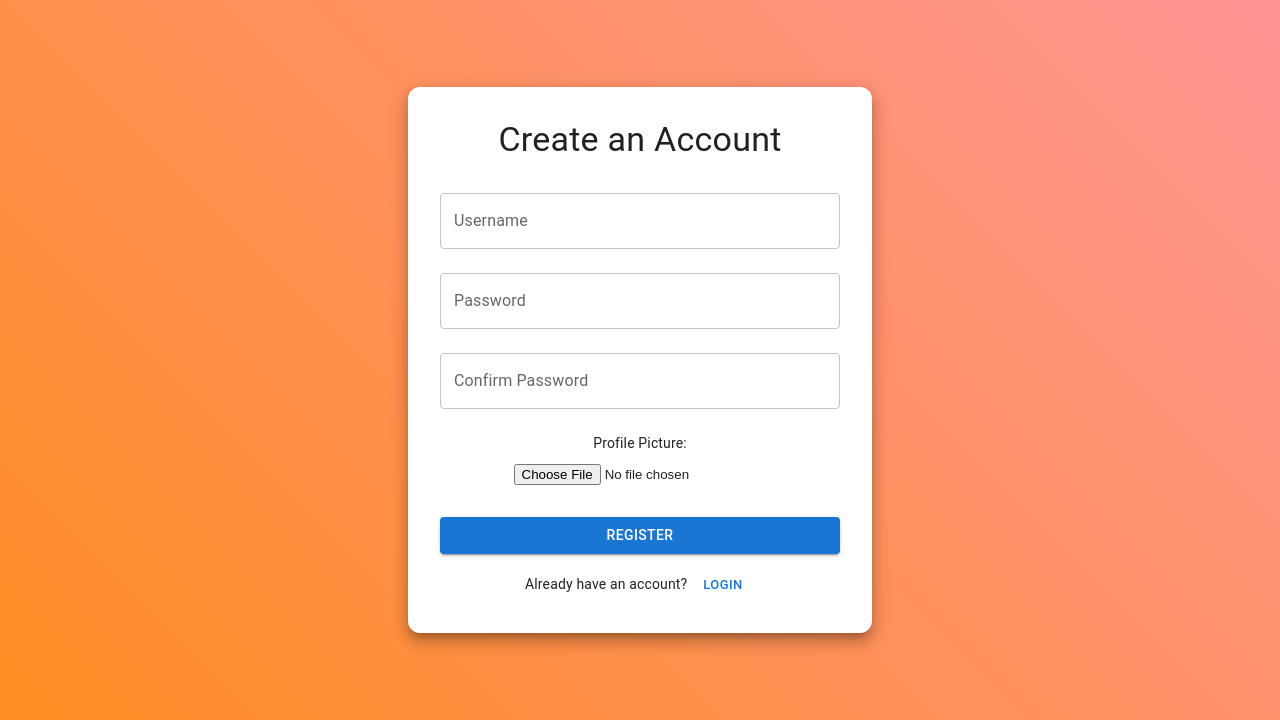
it: Registration Component › handles successful registration
Note: Fill form with valid data
In the field labelled "Username": (640, 221) [440,193,840,249], type "testuser"
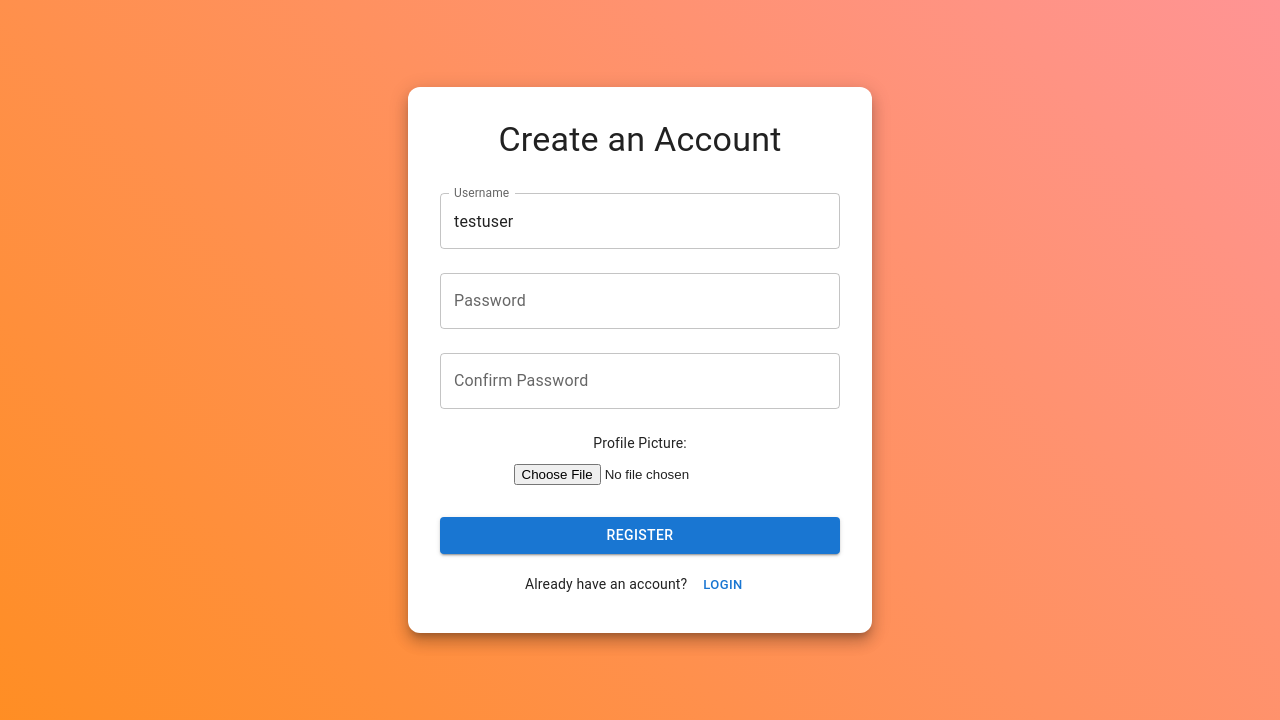
In the password field labelled "Password": (640, 301) [440,273,840,329], type "123456"
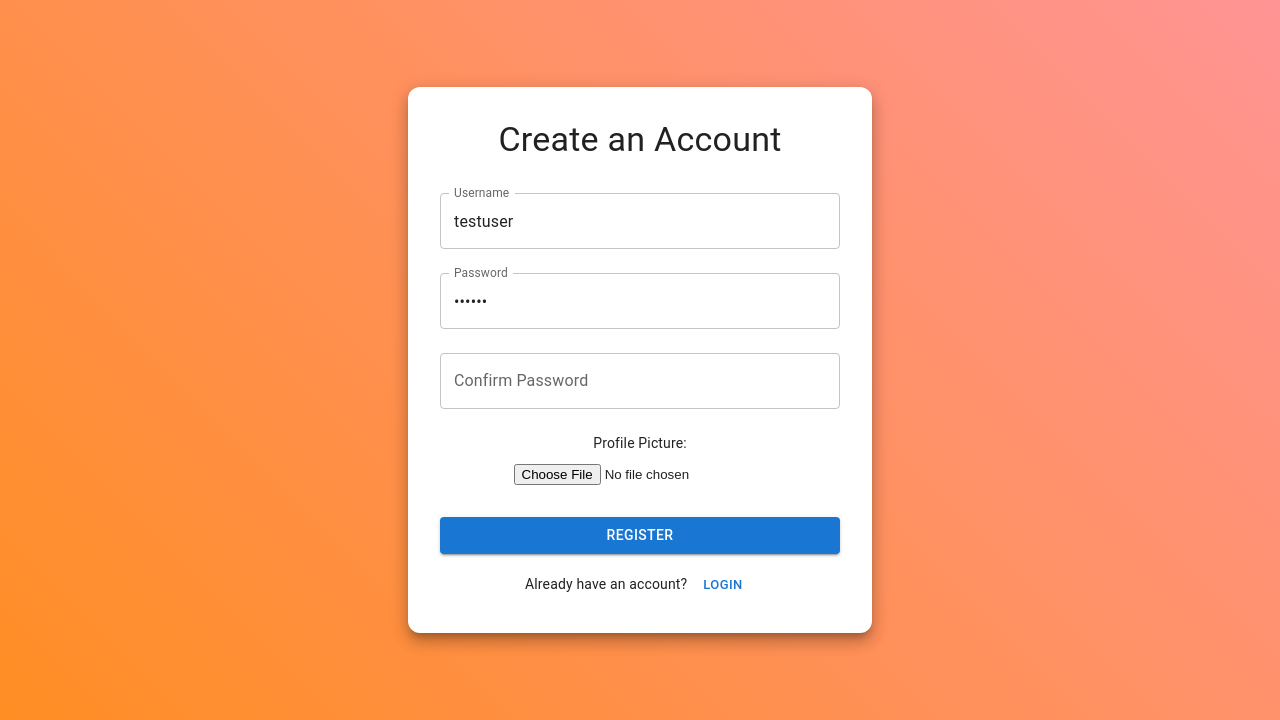
In the password field labelled "Confirm Password": (640, 381) [440,353,840,409], type "123456"
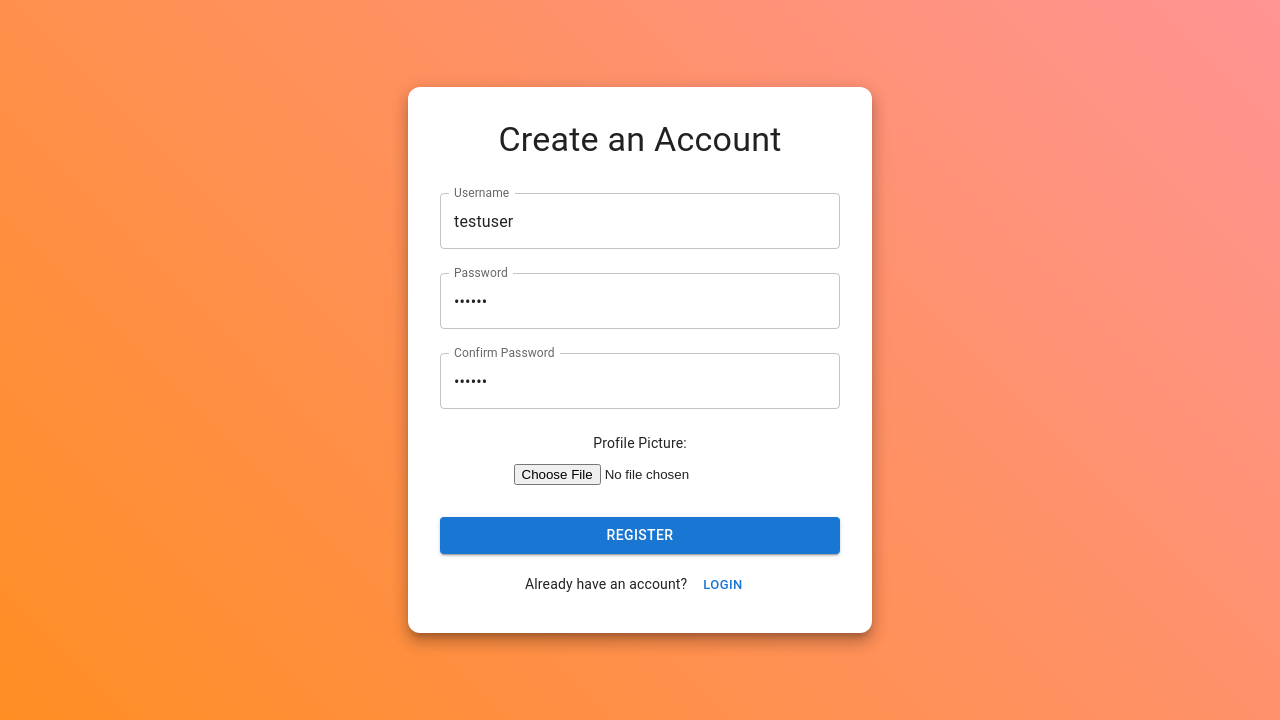
Note: Submit the form
Click the button "Register": (640, 536) [440,517,840,554]
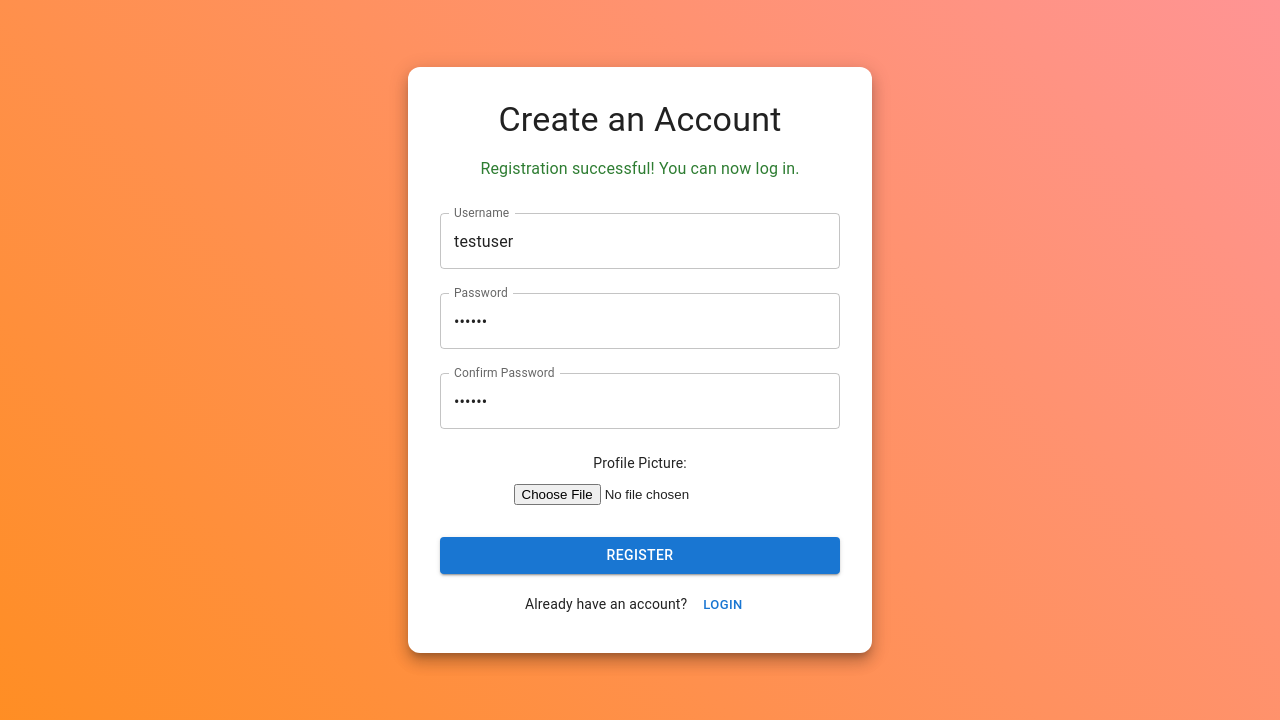
Now the text "Registration successful! You can now log in." is shown, box [480,159,800,178]
